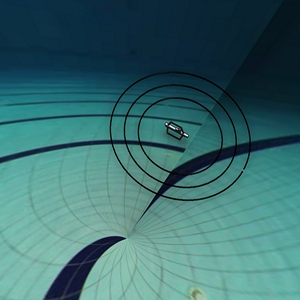circle: (98, 67, 258, 203)
submarine: (158, 116, 200, 155)
